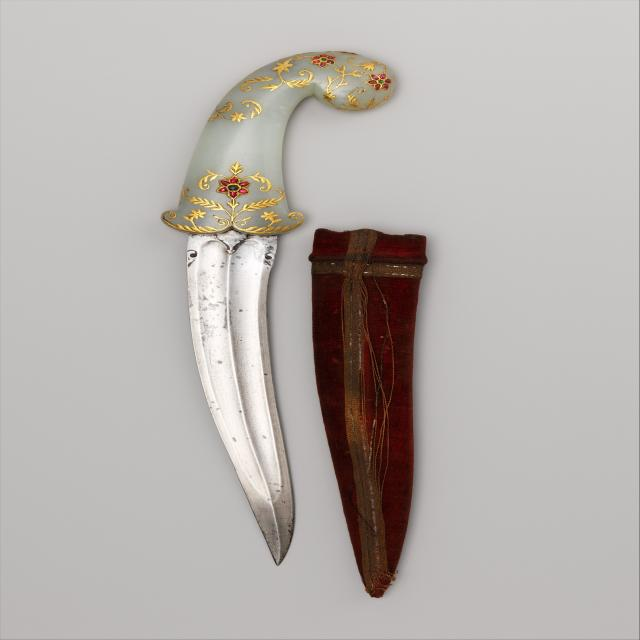Gun: (132, 18, 470, 603)
